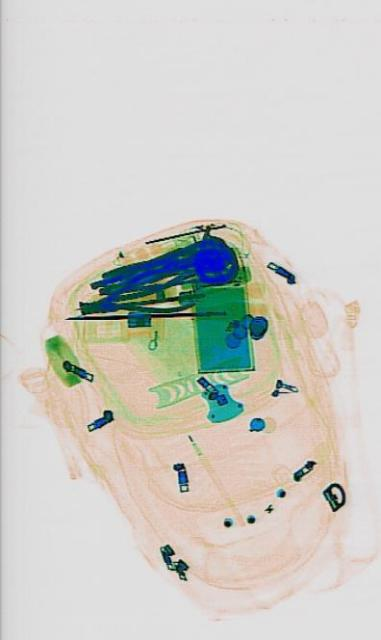Pliers: (75, 253, 194, 333)
